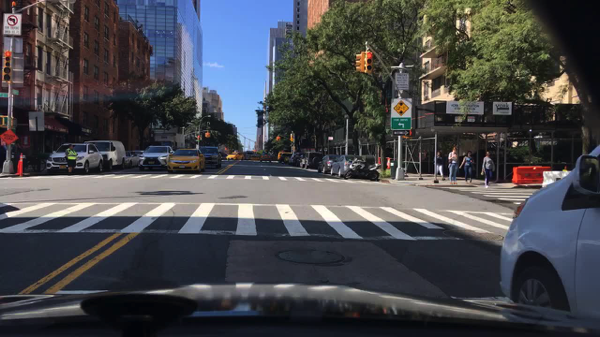bike: (11, 149, 49, 172), (288, 132, 294, 142)
bus: (245, 151, 252, 161)
car: (498, 144, 598, 314), (47, 144, 105, 175), (83, 141, 127, 172), (138, 146, 174, 173), (167, 149, 203, 175), (329, 154, 367, 178), (200, 147, 223, 168), (316, 154, 339, 175), (298, 151, 322, 169), (291, 153, 307, 171), (286, 153, 301, 168), (125, 153, 139, 167), (225, 152, 245, 161), (279, 152, 294, 162), (277, 151, 287, 162), (134, 150, 145, 159), (261, 154, 273, 162), (220, 153, 231, 161), (251, 155, 260, 161)
motor: (342, 157, 381, 181)
person: (458, 150, 475, 182), (447, 146, 460, 185), (480, 152, 494, 188), (432, 153, 446, 182), (65, 144, 78, 173)
traffic light: (2, 50, 13, 83), (364, 52, 373, 73), (353, 54, 362, 73), (0, 115, 9, 126), (403, 132, 415, 139), (12, 118, 18, 130), (205, 133, 211, 139), (275, 136, 280, 142)
traffic sign: (390, 98, 411, 130), (3, 14, 22, 36), (3, 53, 14, 86), (4, 37, 23, 53), (29, 113, 45, 132), (0, 129, 19, 144), (392, 130, 411, 137), (12, 89, 22, 96), (0, 93, 10, 98), (197, 135, 202, 141), (327, 137, 333, 141), (193, 140, 200, 142)
train: (394, 73, 409, 90)
